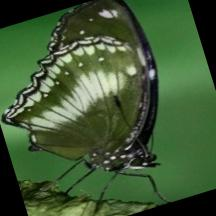butterfly: (1, 0, 157, 171)
